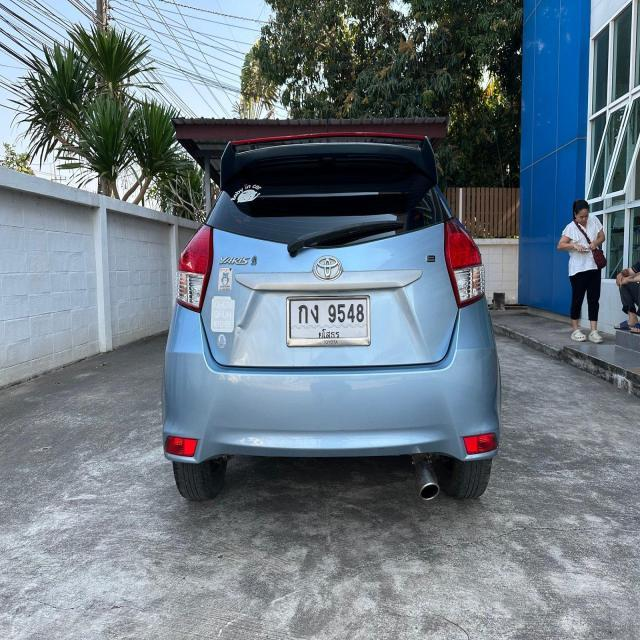Hatchback: (162, 132, 500, 501)
